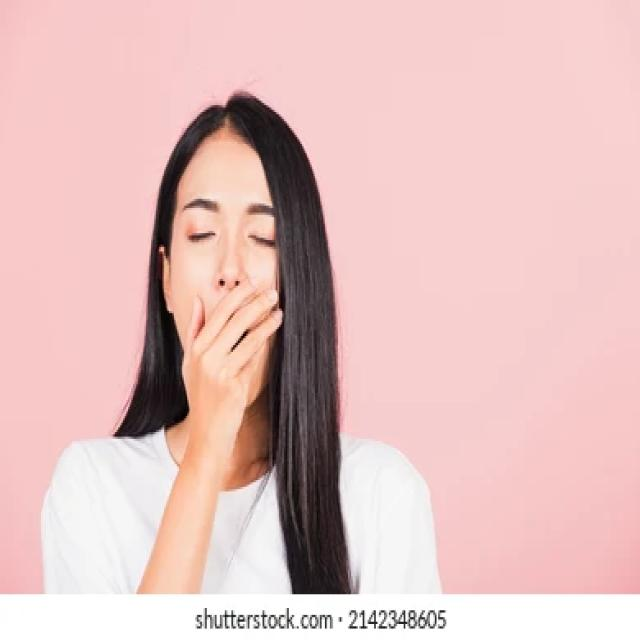7_mano_rostro: (182, 274, 284, 450)
